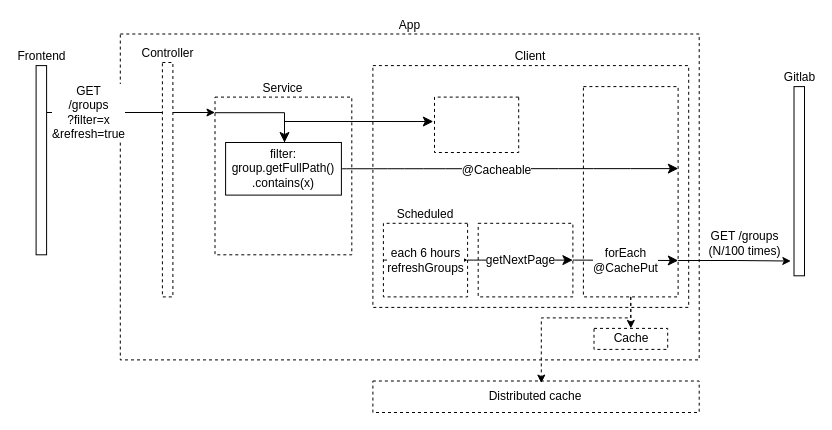
The diagram is 832 pixels wide and 430 high, and some of its shapes have lost their labels. The shapes that lost their labels are listed below. From the top down, each one's centre as x and y in pixels, then its label:
At pixel 476 124: "TreeSet<FullPath>".
At pixel 630 191: "Caching<Group>".
At pixel 525 259: "Retryable".
